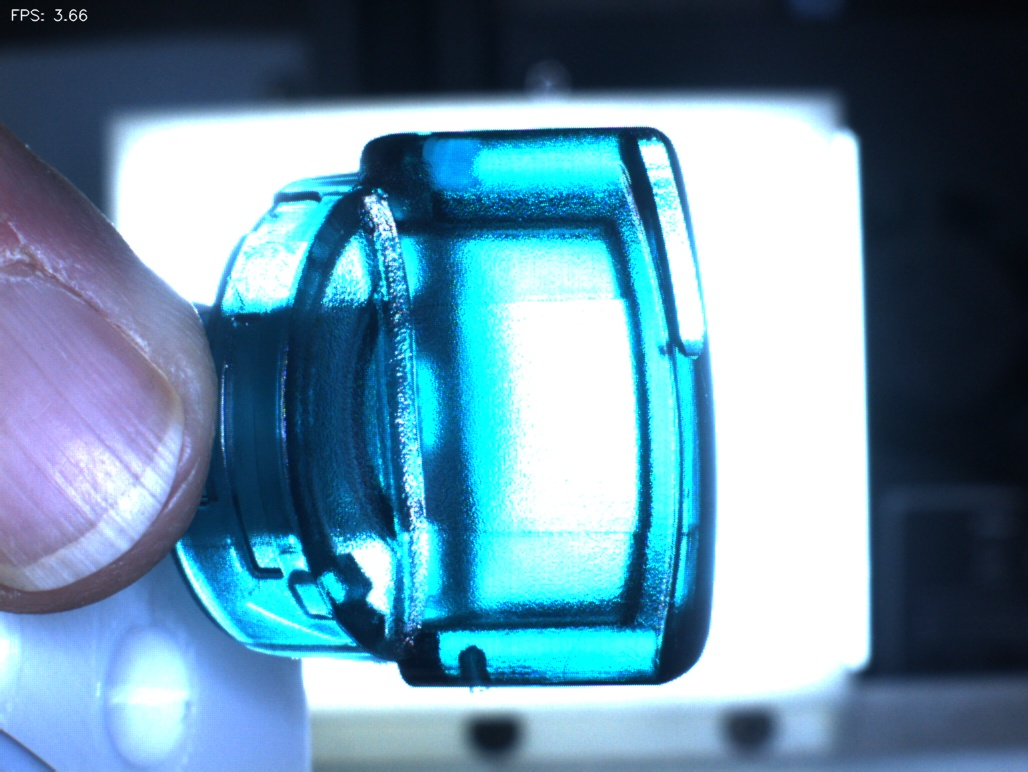Bulle: (437, 623, 507, 695)
